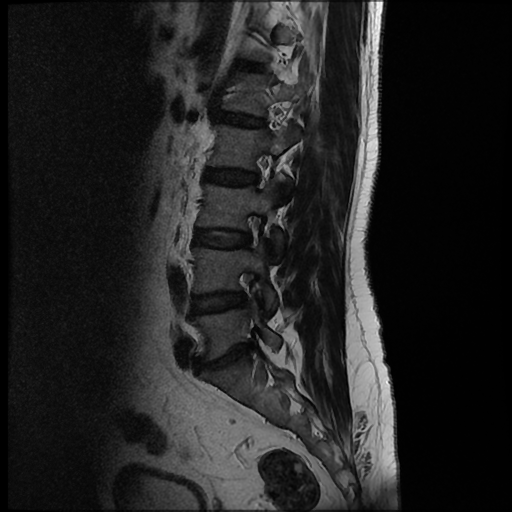LFS0: (243, 145, 278, 198), (233, 204, 268, 256)
LFS2: (225, 264, 263, 314)
